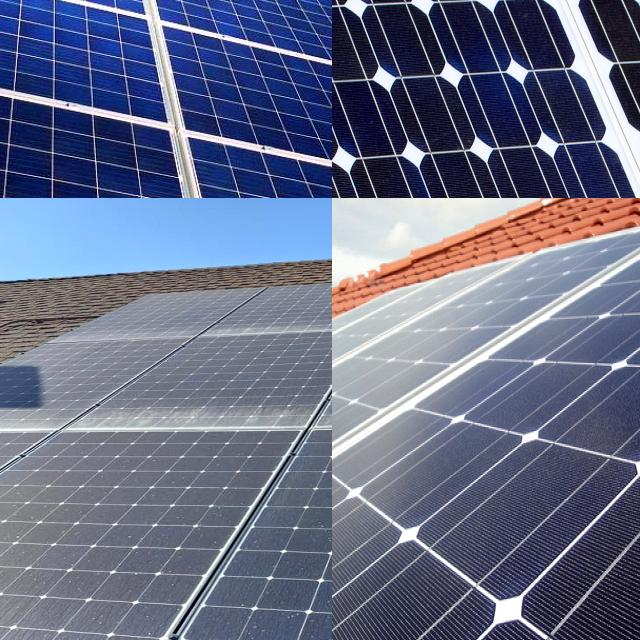crack: (332, 0, 640, 198), (0, 53, 308, 198), (146, 12, 332, 198), (0, 0, 191, 146), (130, 0, 332, 93), (0, 0, 154, 80), (121, 0, 332, 58), (93, 0, 319, 52), (118, 0, 332, 52), (0, 0, 137, 63), (0, 0, 134, 41)
dust: (0, 533, 149, 634), (374, 278, 562, 354), (0, 396, 314, 433), (247, 506, 332, 640), (332, 367, 375, 526), (201, 321, 332, 337), (68, 331, 190, 342)
